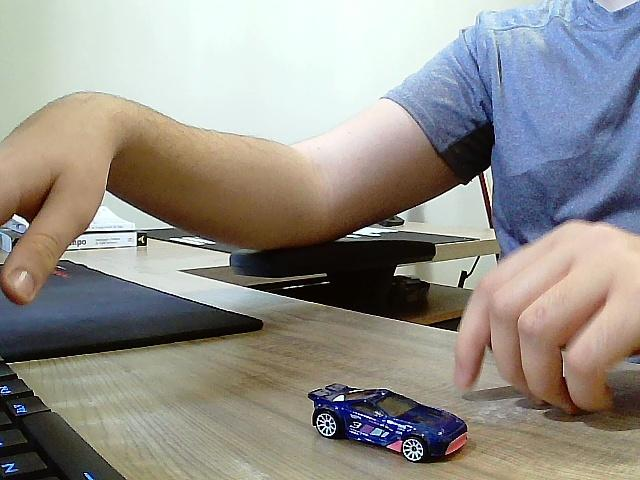Carro: (309, 385, 470, 463)
